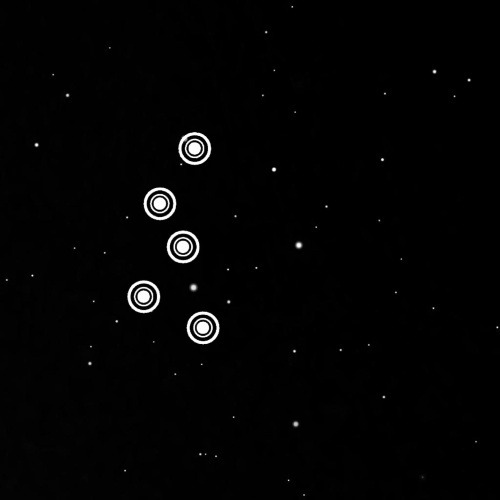cassiopeia: (111, 125, 230, 358)
